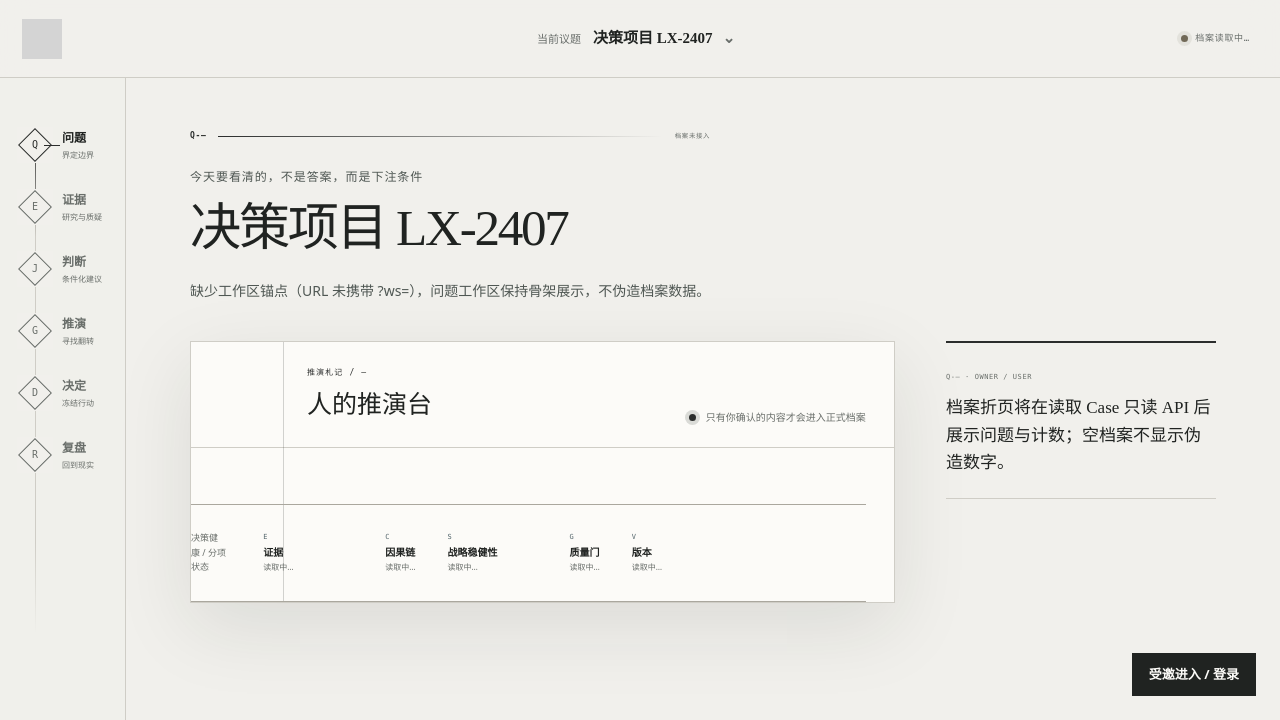
Test: ProjectDrawer + Session B shell completion (Task 11 Phase 0) › renders an honest unauthenticated state on 401 without fabricated entries
Click the button "决策项目 LX-2407 ⌄" at (664, 38), box [593,19,735,58]
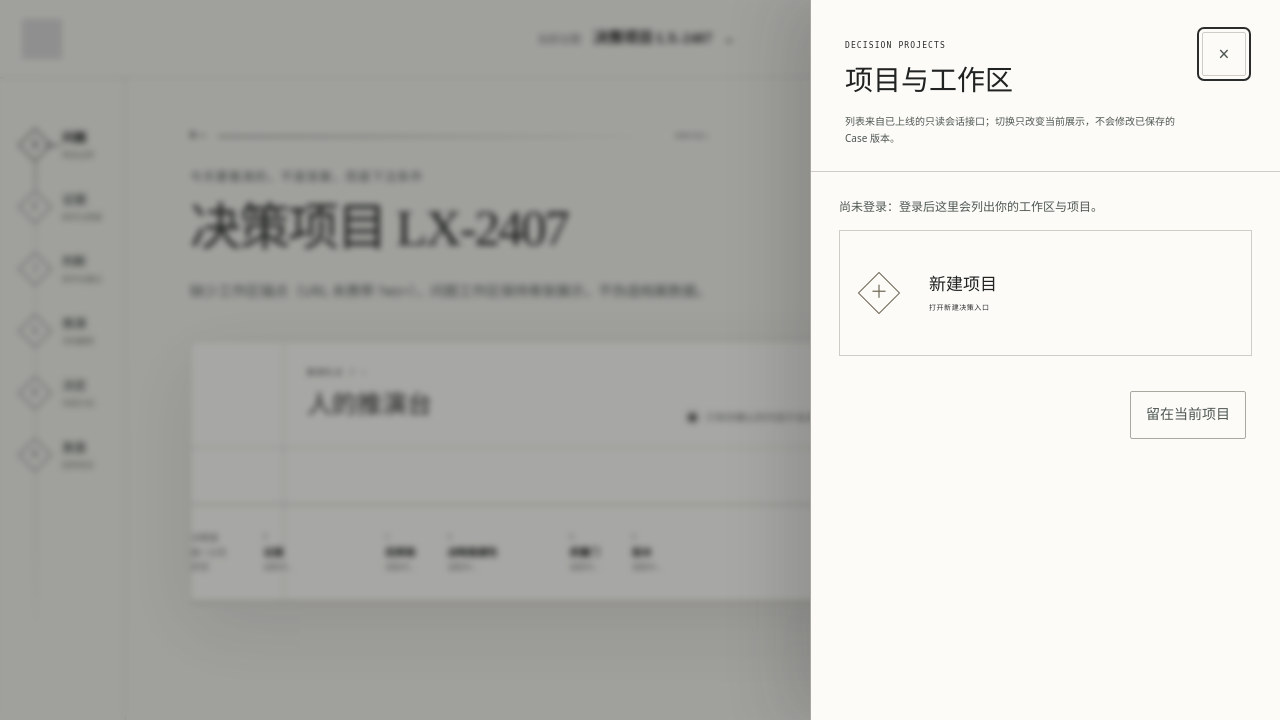
expect the text "尚未登录：登录后这里会列出你的工作区与项目。" is shown: met, box [839,198,1103,215]
